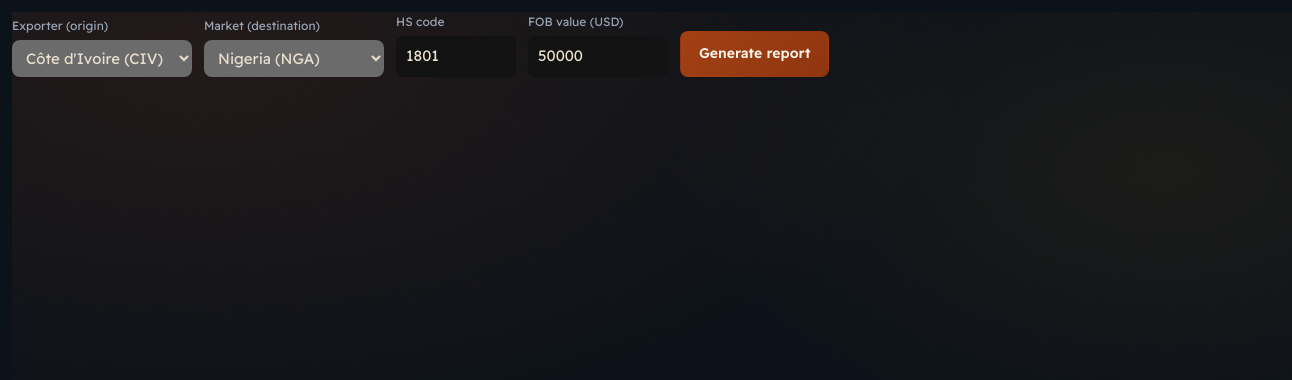
Scenario: BilateralView — module réservé aux abonnements payants (audit E1) › affiche un avis localisé avec un lien vers les formules
This screenshot has width=1292, height=380.
Click the button with test id "report-run" at x=755, y=54, box 680,32 -> 830,77
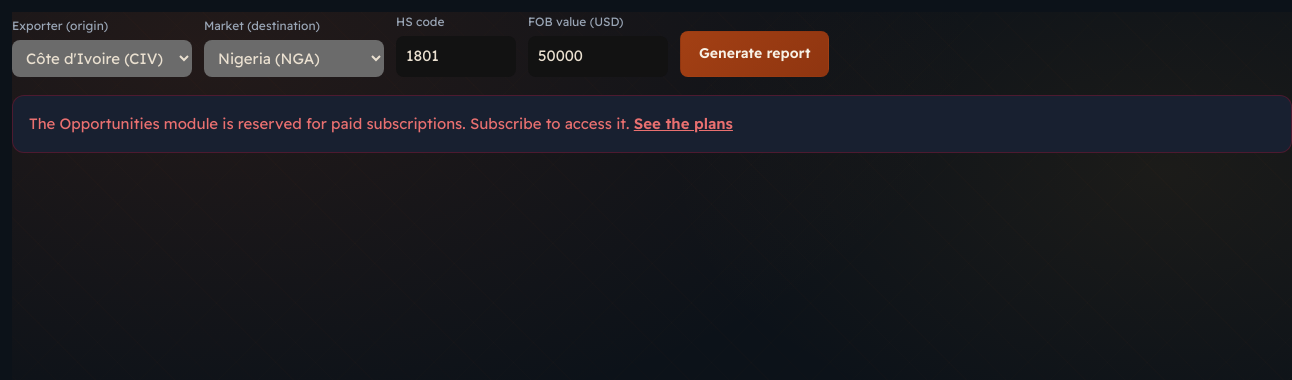
Now the element with test id "subscription-notice" shows "The Opportunities module is reserved for paid subscriptions.", box 29,114 -> 630,132
